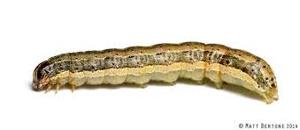fallarmy_worm: (26, 41, 284, 108)
